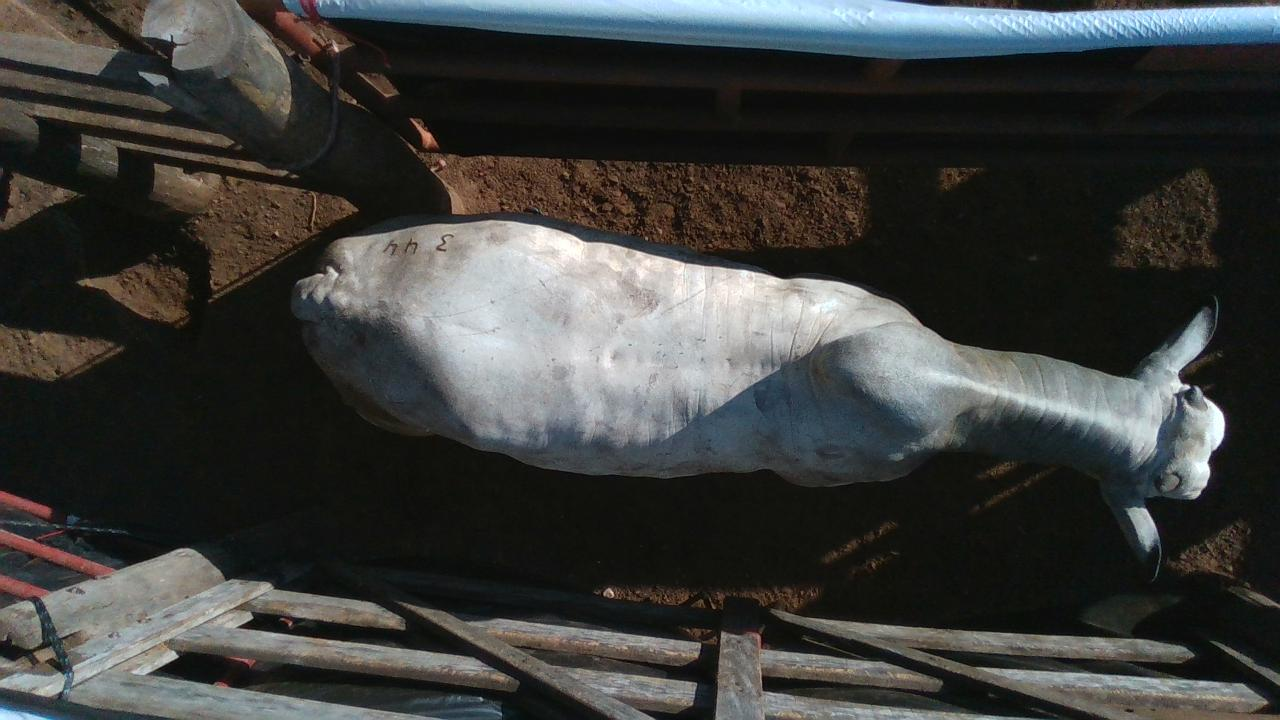cattle: (289, 208, 1227, 584)
